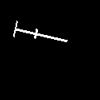double_crochet: (13, 22, 66, 41)
